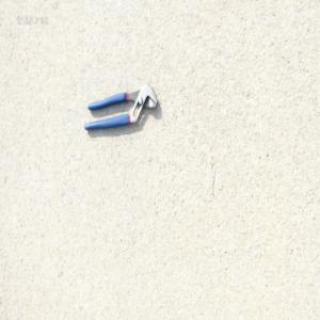Pliertrack_idkeyframe: (81, 82, 158, 132)
